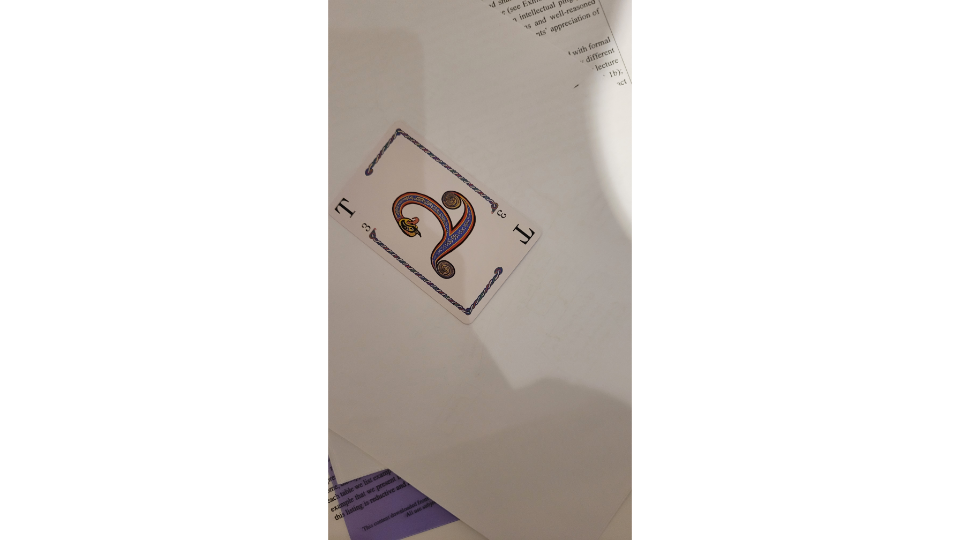T: (329, 119, 547, 328)
